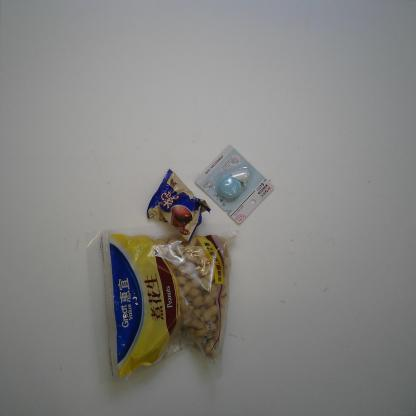Dessert: (146, 169, 212, 243)
Dried Food: (84, 228, 240, 404)
Stationery: (194, 144, 276, 224)
